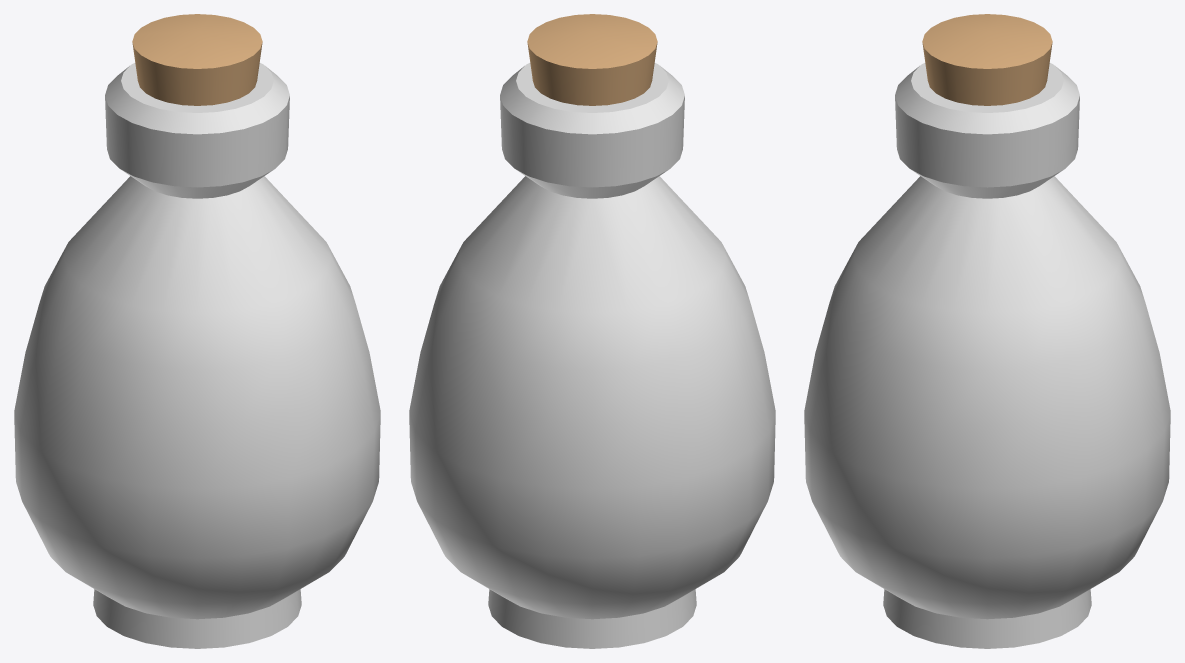
The model's file is kaykit-potionsmall-blue.glb.
3 renders of one model, left to right at view 1: azimuth 30°, elevation 25°; view 2: azimuth 150°, elevation 25°; view 3: azimuth 270°, elevation 25°, orthographic.
Visible parts, largest first — view 1: potionSmall_blue; view 2: potionSmall_blue; view 3: potionSmall_blue.
Part boxes in pixels (x1,y1,x2,y2): potionSmall_blue: [14, 14, 380, 648]; potionSmall_blue: [409, 14, 775, 648]; potionSmall_blue: [804, 14, 1170, 648].
Bounding box in the file's own units: 0.5001 × 0.8622 × 0.5001.
